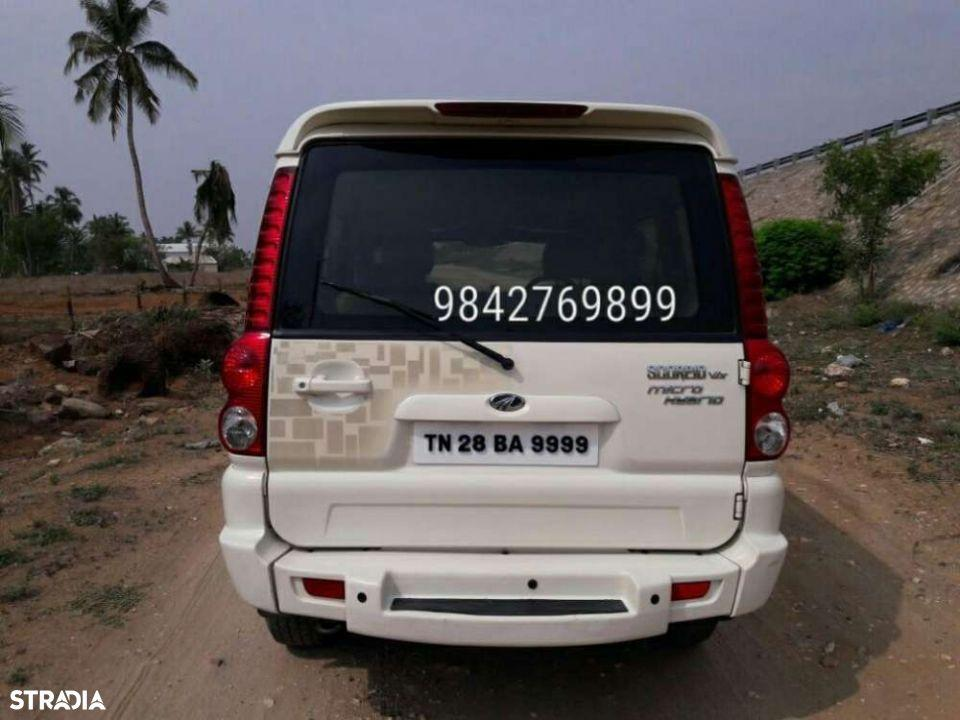License-Plate: (412, 419, 595, 465)
